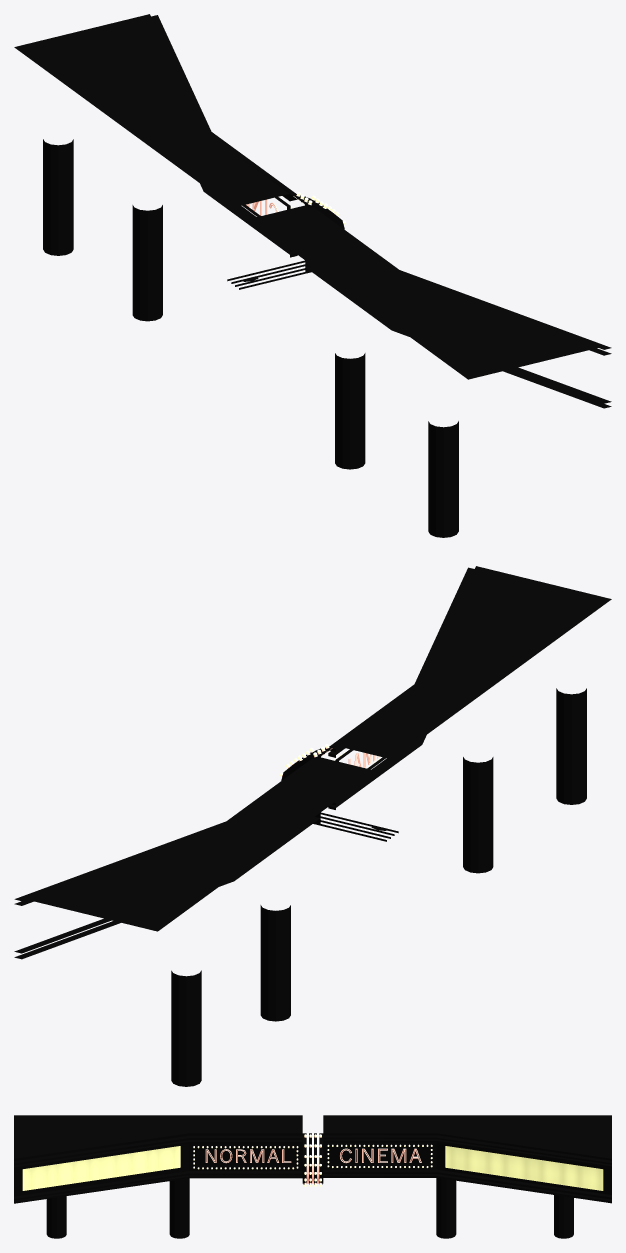
The model's file is cine.glb.
3 views of the same model, one above another, from view 1: azimuth 30°, elevation 25°; view 2: azimuth 150°, elevation 25°; view 3: azimuth 270°, elevation 25° (orthographic). The views are drawn at different scales.
Visible parts, largest first — view 1: sm_cinema_a01; view 2: sm_cinema_a01; view 3: sm_cinema_a01.
Boxes of the visible parts, x1,y1,x2,y2 form: sm_cinema_a01: [14, 14, 611, 537]; sm_cinema_a01: [14, 566, 611, 1086]; sm_cinema_a01: [14, 1115, 611, 1238].
Bounding box in the file's own units: 5.78 × 6.47 × 29.74.
Materials: 5 (1 with a texture image).
